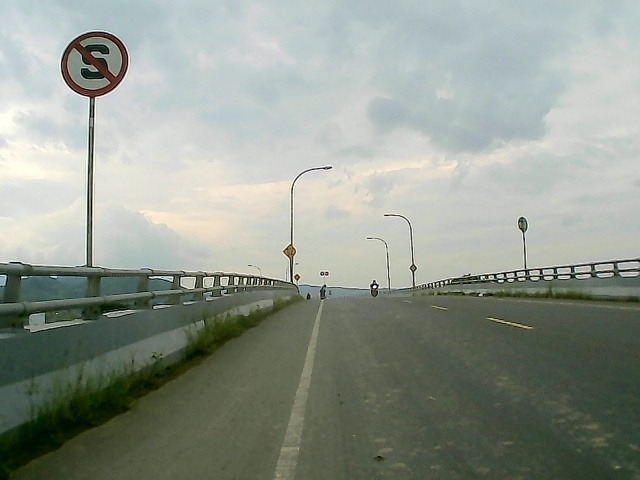Dilarang berhenti: (59, 29, 131, 99)
